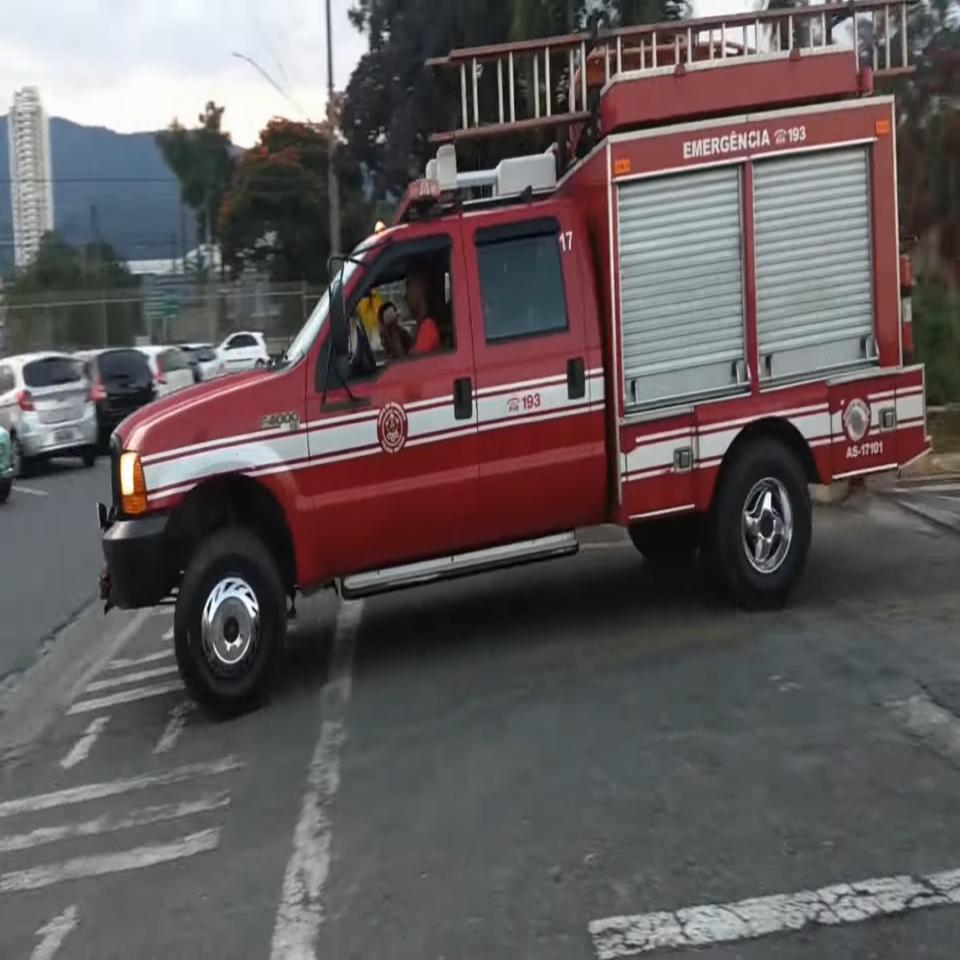bombeiro: (97, 0, 934, 714)
